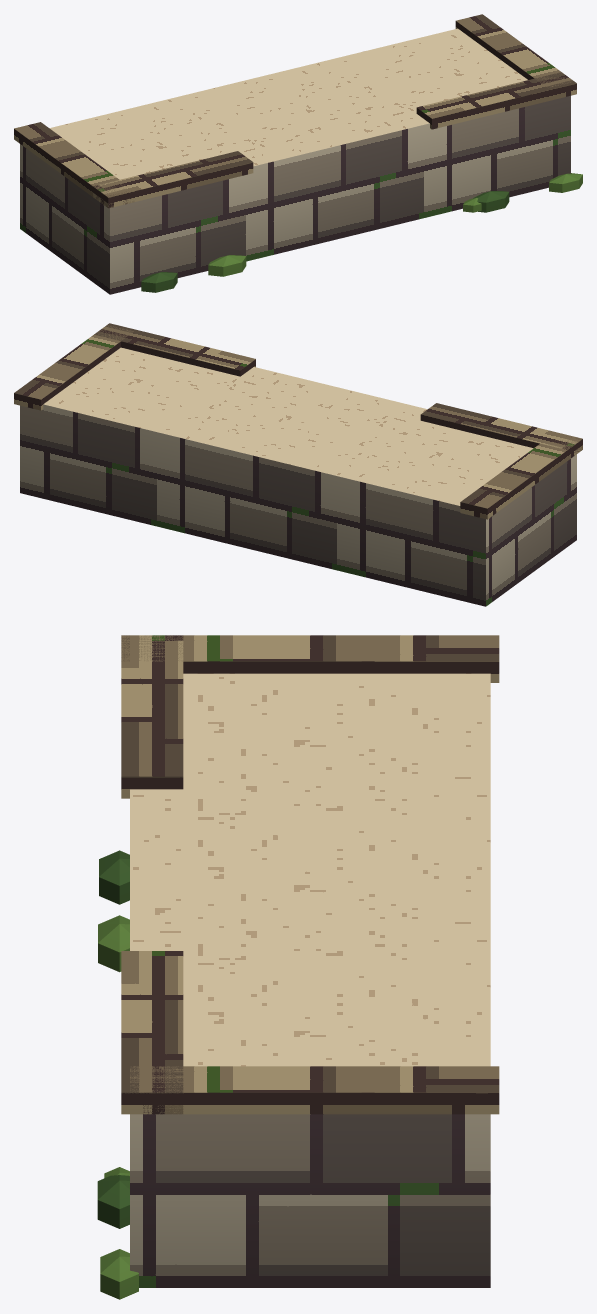
Rendered from scene_plat_f1.glb.
3 renders of one model, top to bottom at view 1: azimuth 30°, elevation 25°; view 2: azimuth 150°, elevation 25°; view 3: azimuth 270°, elevation 25°, orthographic. The views are drawn at different scales.
Parts seen in each view (by area): view 1: scene_plat_f1; view 2: scene_plat_f1; view 3: scene_plat_f1.
Part boxes in pixels (x1,y1,x2,y2): scene_plat_f1: [14, 14, 582, 294]; scene_plat_f1: [14, 323, 582, 606]; scene_plat_f1: [97, 635, 499, 1299].
Bounding box in the file's own units: 6.37 × 1.37 × 2.34.
Materials: 3 (2 with a texture image).
